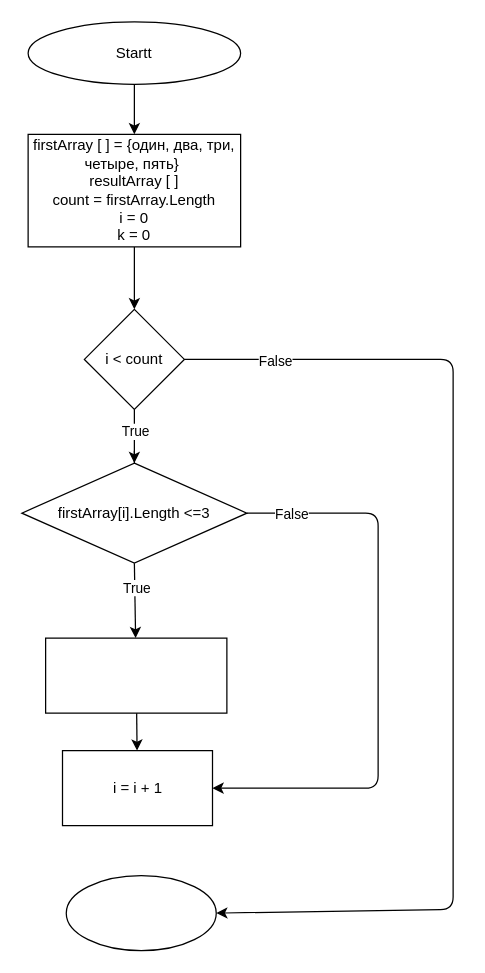
Image size: 485x973. Some labels were removed from this diagram. The box of each missing label's shape, as (x1, y1, x2, y2) in pixels:
End: (65, 874, 216, 951)
resultArray[k] = firstArray[i] k = k+1: (44, 637, 227, 713)
